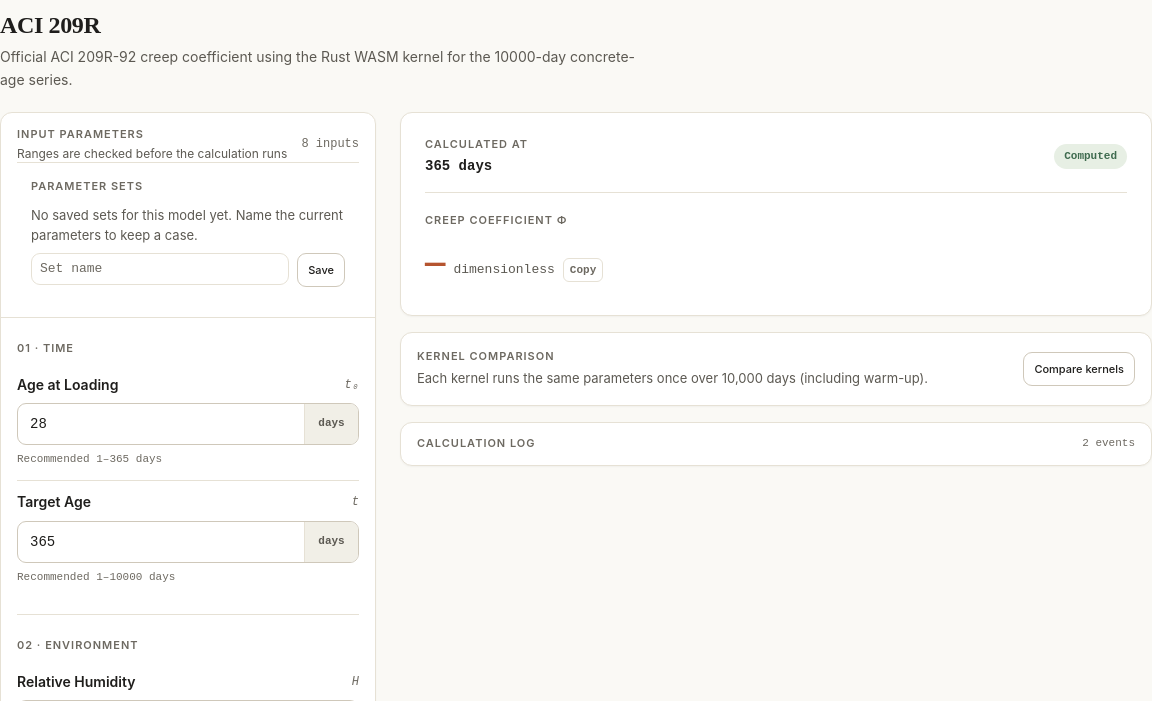
kernel comparison › a timing is discarded when a real input changes
Click the button "Compare kernels". click: coordinates (1079, 369)
box: [1023,352,1135,386]
(page scrolled)
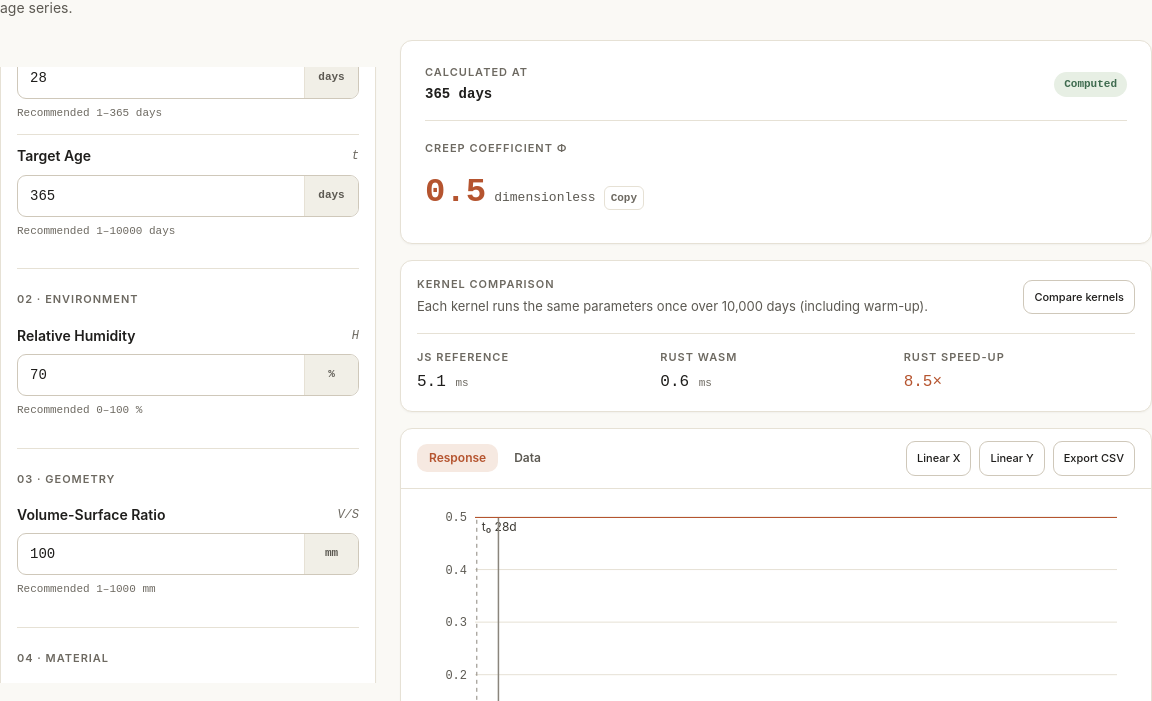
Now the text "Rust speed-up" is shown, box [904,350,1005,364]
Replace the text in the number field labelled "Relative Humidity" with "40". click: coordinates (161, 375)
box: [18,355,304,395]
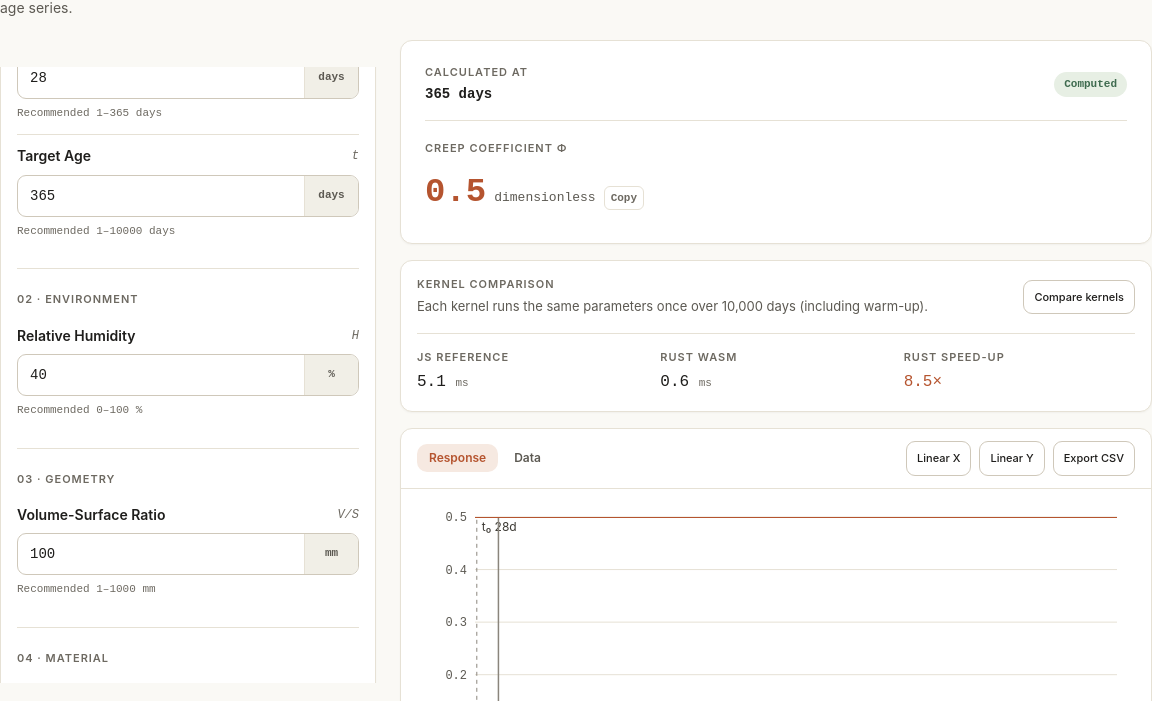
Leave the number field labelled "Relative Humidity", box [18,355,304,395]
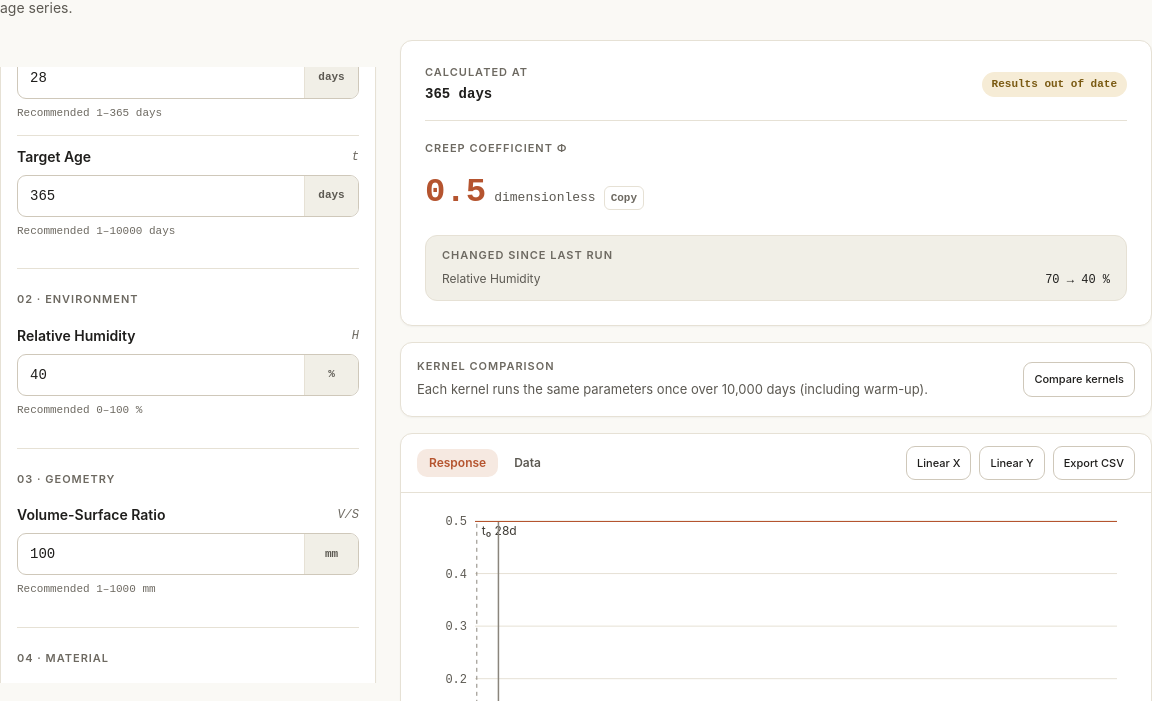
Now the text "Rust speed-up" is gone
